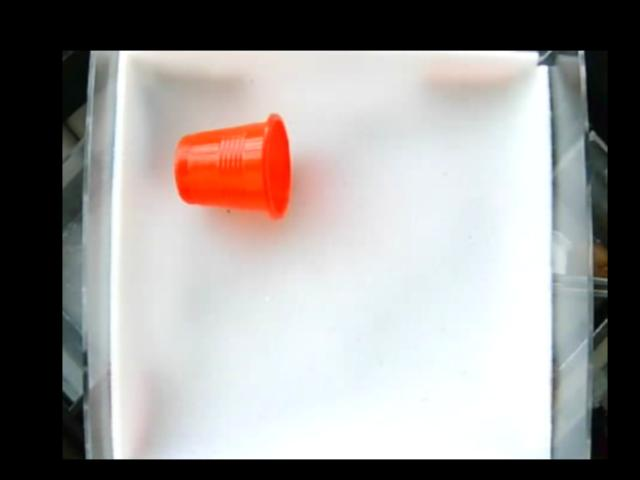Cup: (174, 112, 294, 218)
